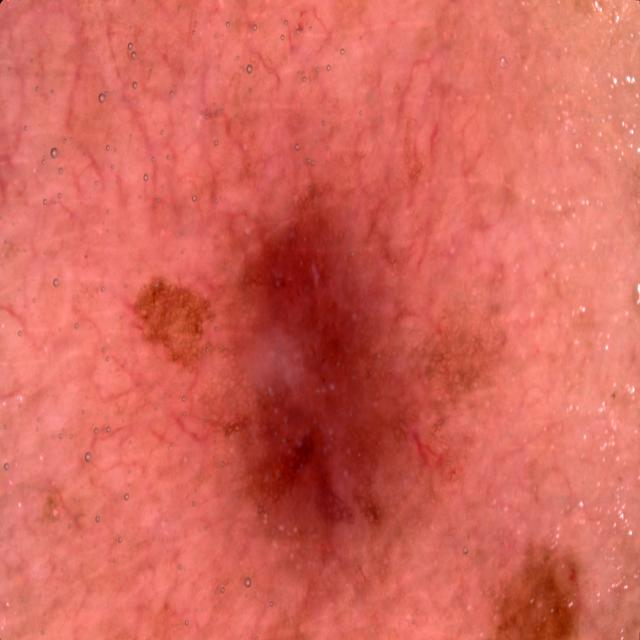Skin-Cancer Dermatofibroma: (38, 37, 631, 640)
